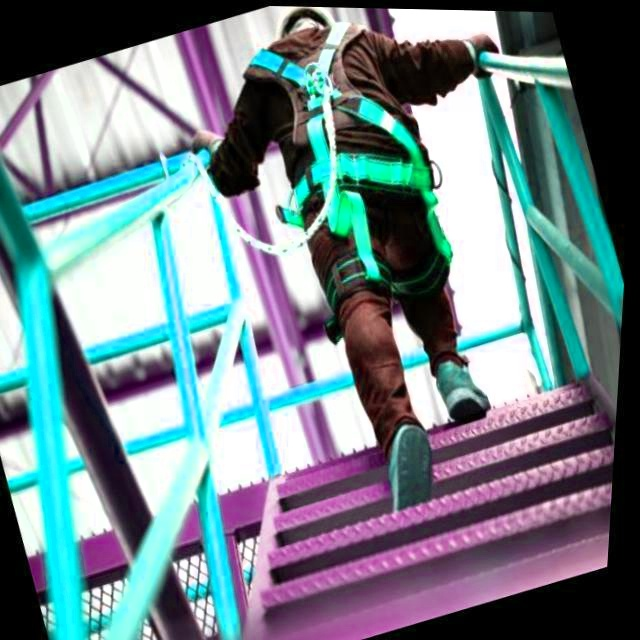safety belt: (219, 33, 449, 262)
